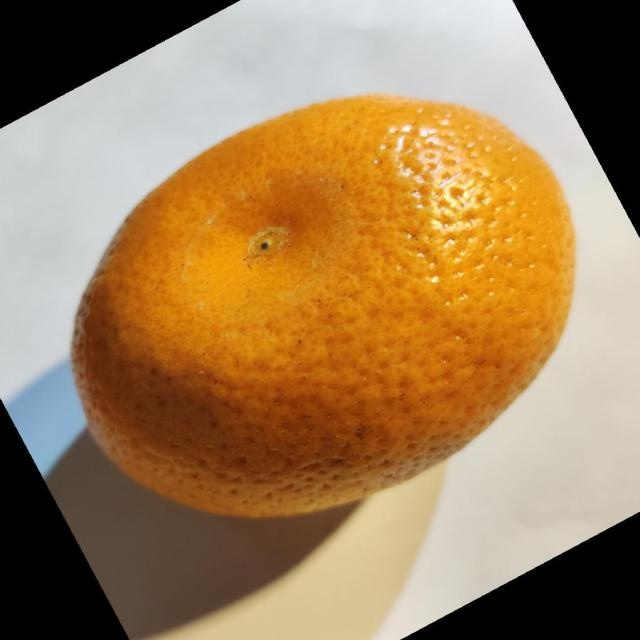agrume: (69, 92, 577, 520)
